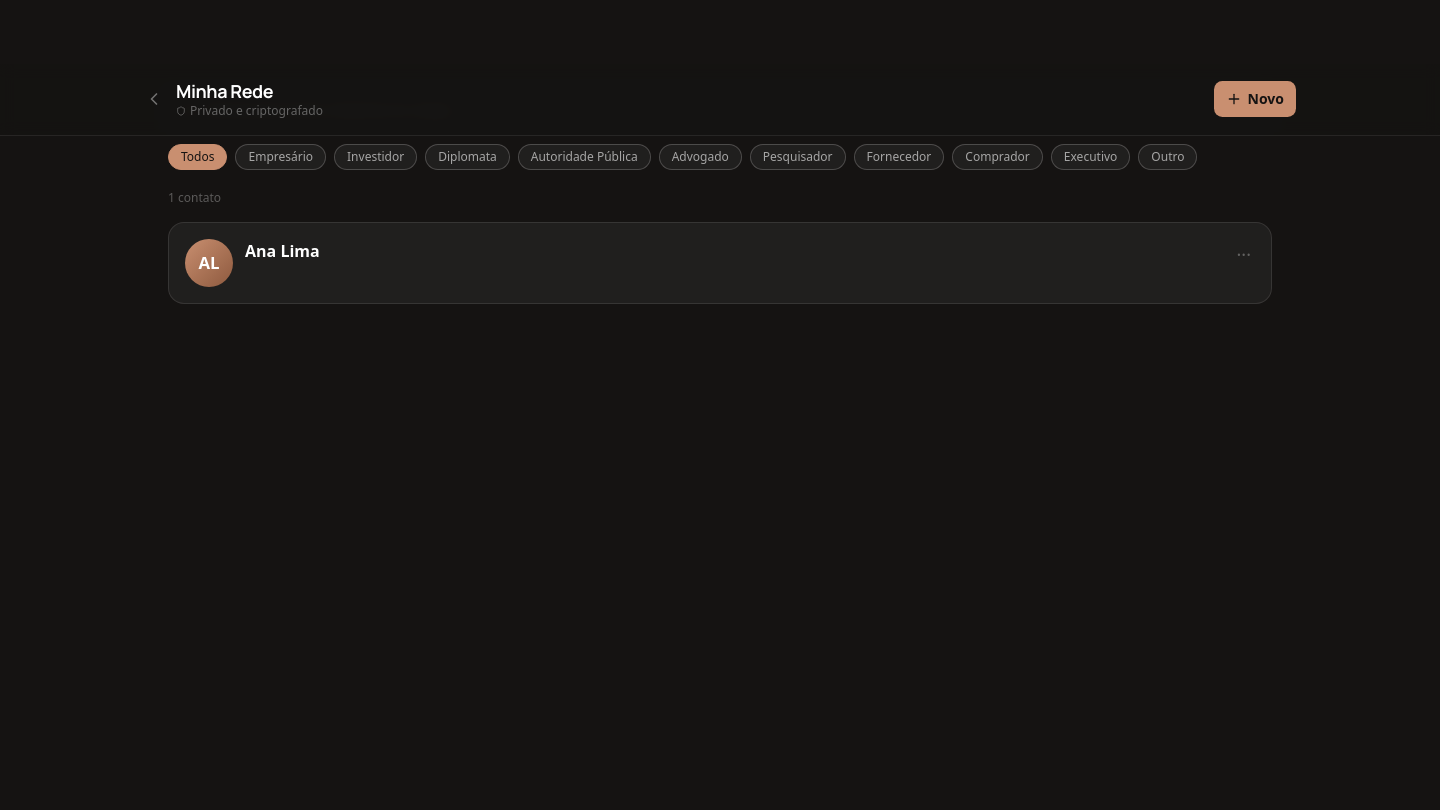
Test case: Network — seção Possui / Procura no detalhe do contato › sem itens, diz que nada foi registrado (e não mostra erro)
Click the text "Ana Lima": (282, 250) [245,238,320,262]
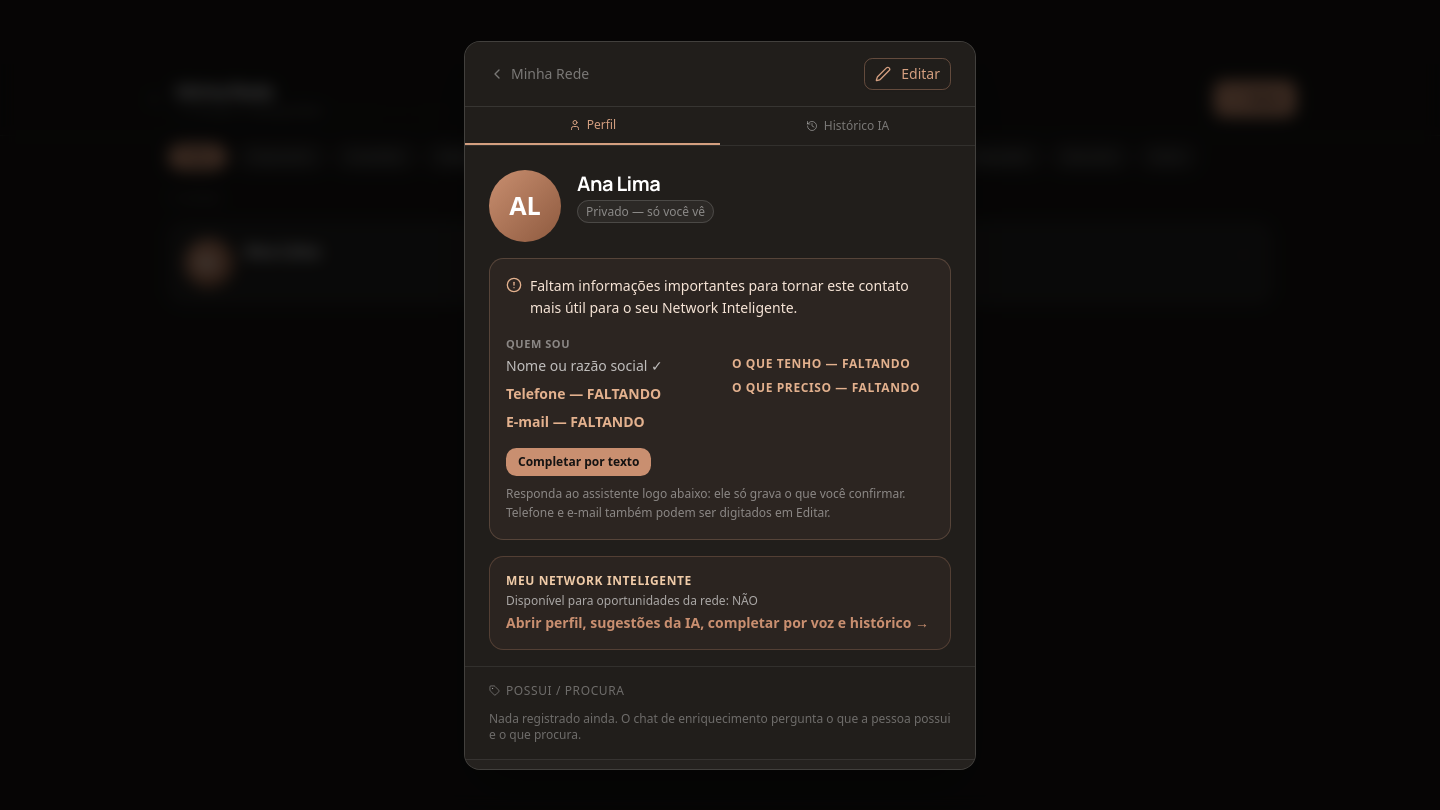
Result: the text "Possui / Procura" is shown at [489,682,624,699]
Result: the text "Nada registrado ainda" is shown at [489,710,951,743]
